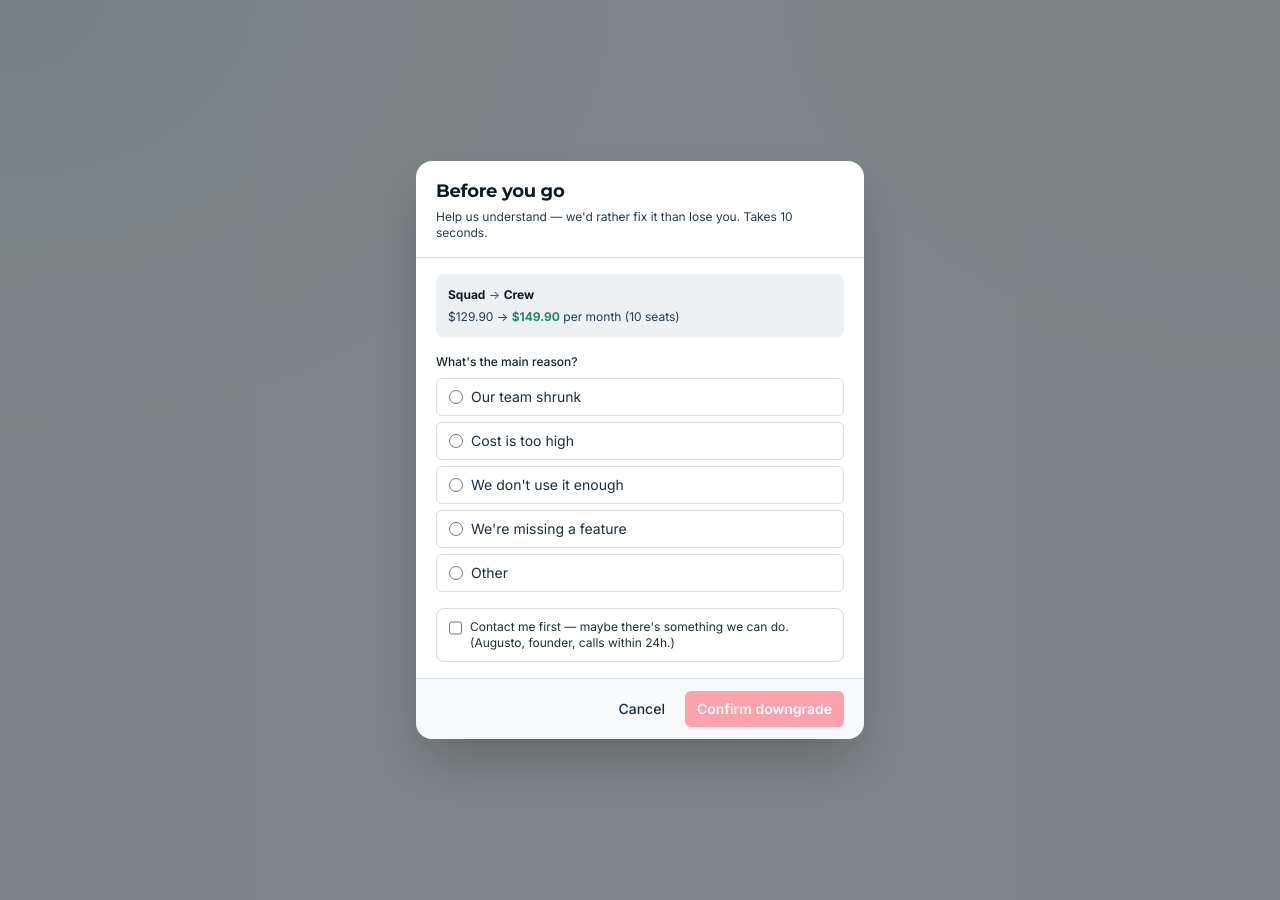
Test case: DowngradeReasonModal › shows the "other reason" textarea only when "Other" is picked
This screenshot has width=1280, height=900.
Expected: the field with placeholder "Tell us briefly" is not shown
Step 1. Click the radio button labelled "Other" → (456,573), box [449,566,463,580]
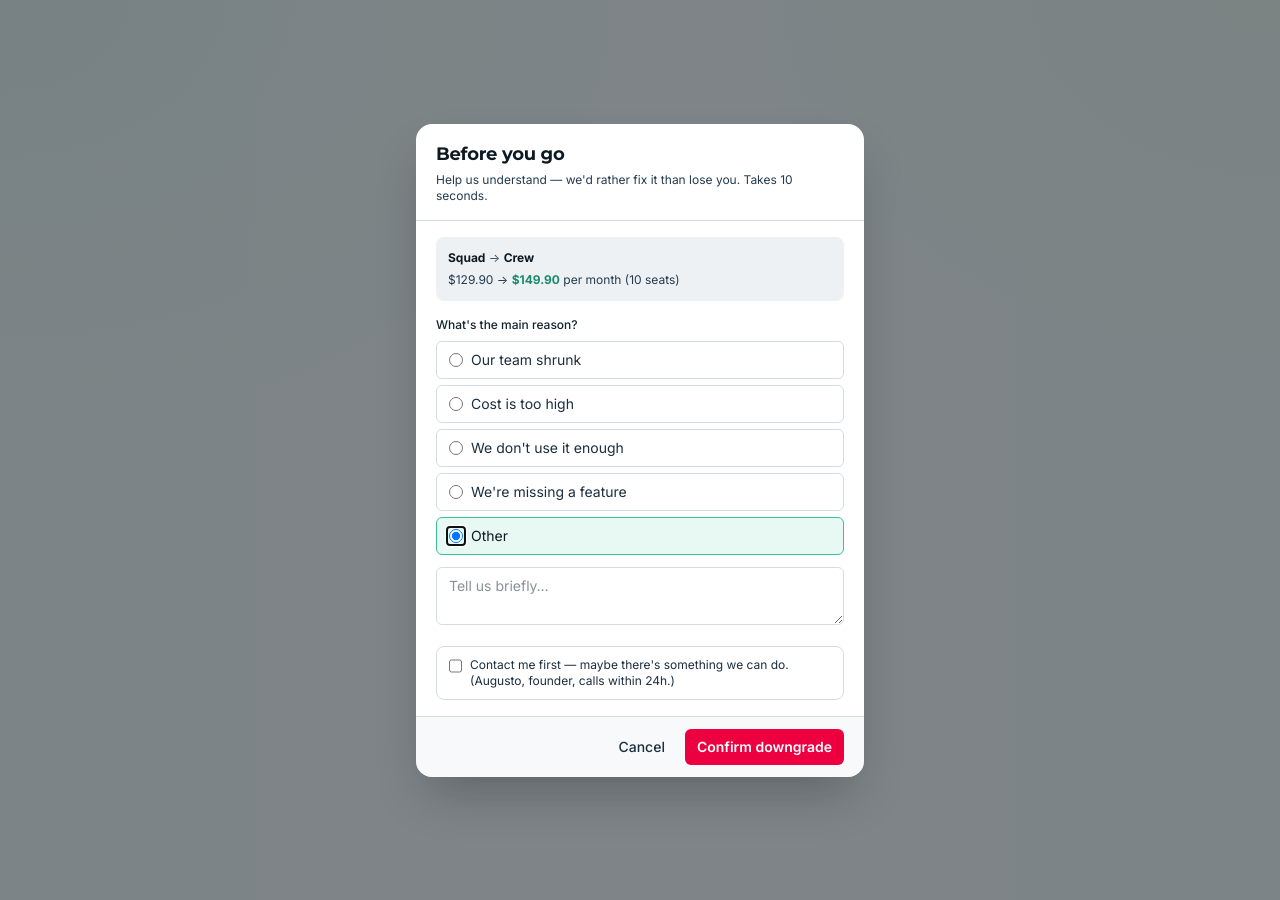
Now the text box with placeholder "Tell us briefly…" is shown, box [436,566,844,624]
